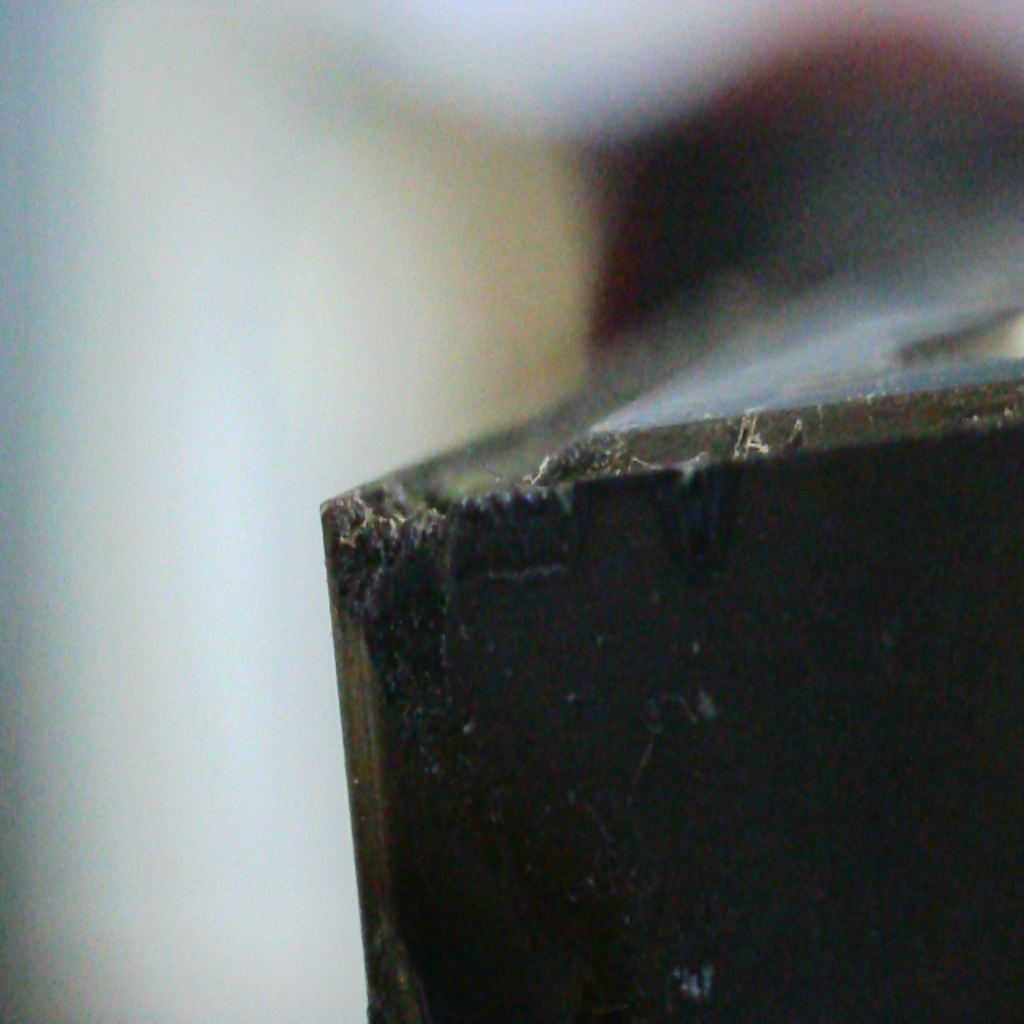flank_wear: (324, 501, 584, 752), (644, 465, 738, 584)
